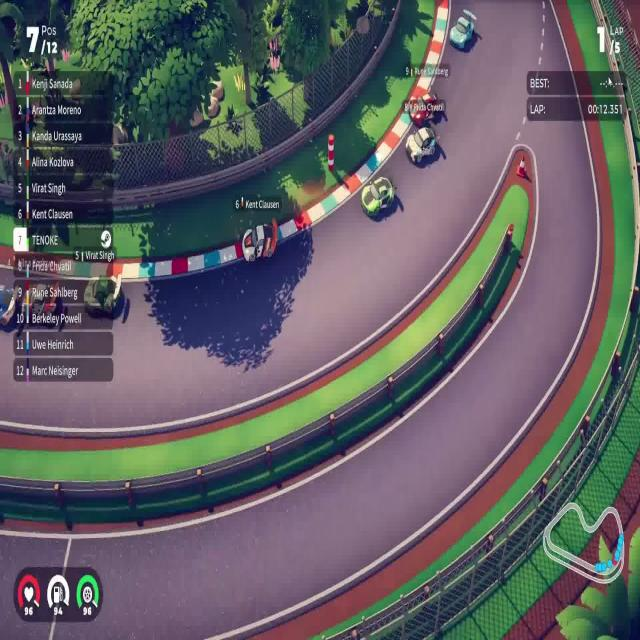car: (360, 174, 395, 219), (86, 274, 121, 315), (242, 225, 278, 262), (405, 125, 437, 165), (410, 93, 442, 124), (448, 12, 474, 50)
